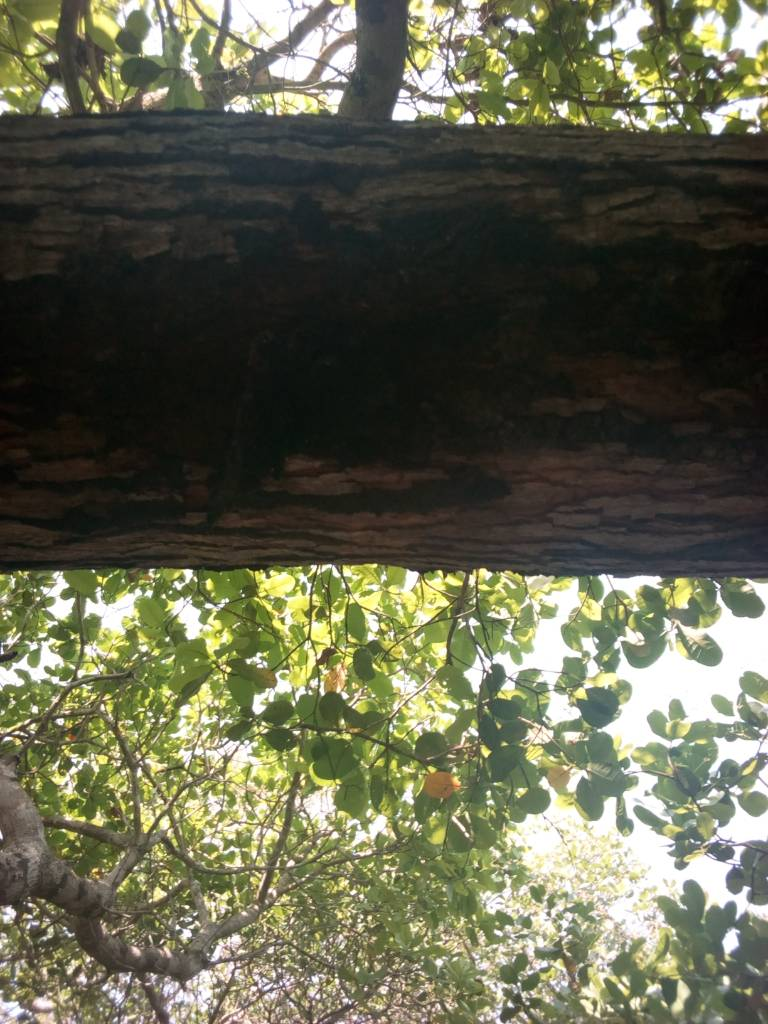Termites: (47, 222, 757, 496)
